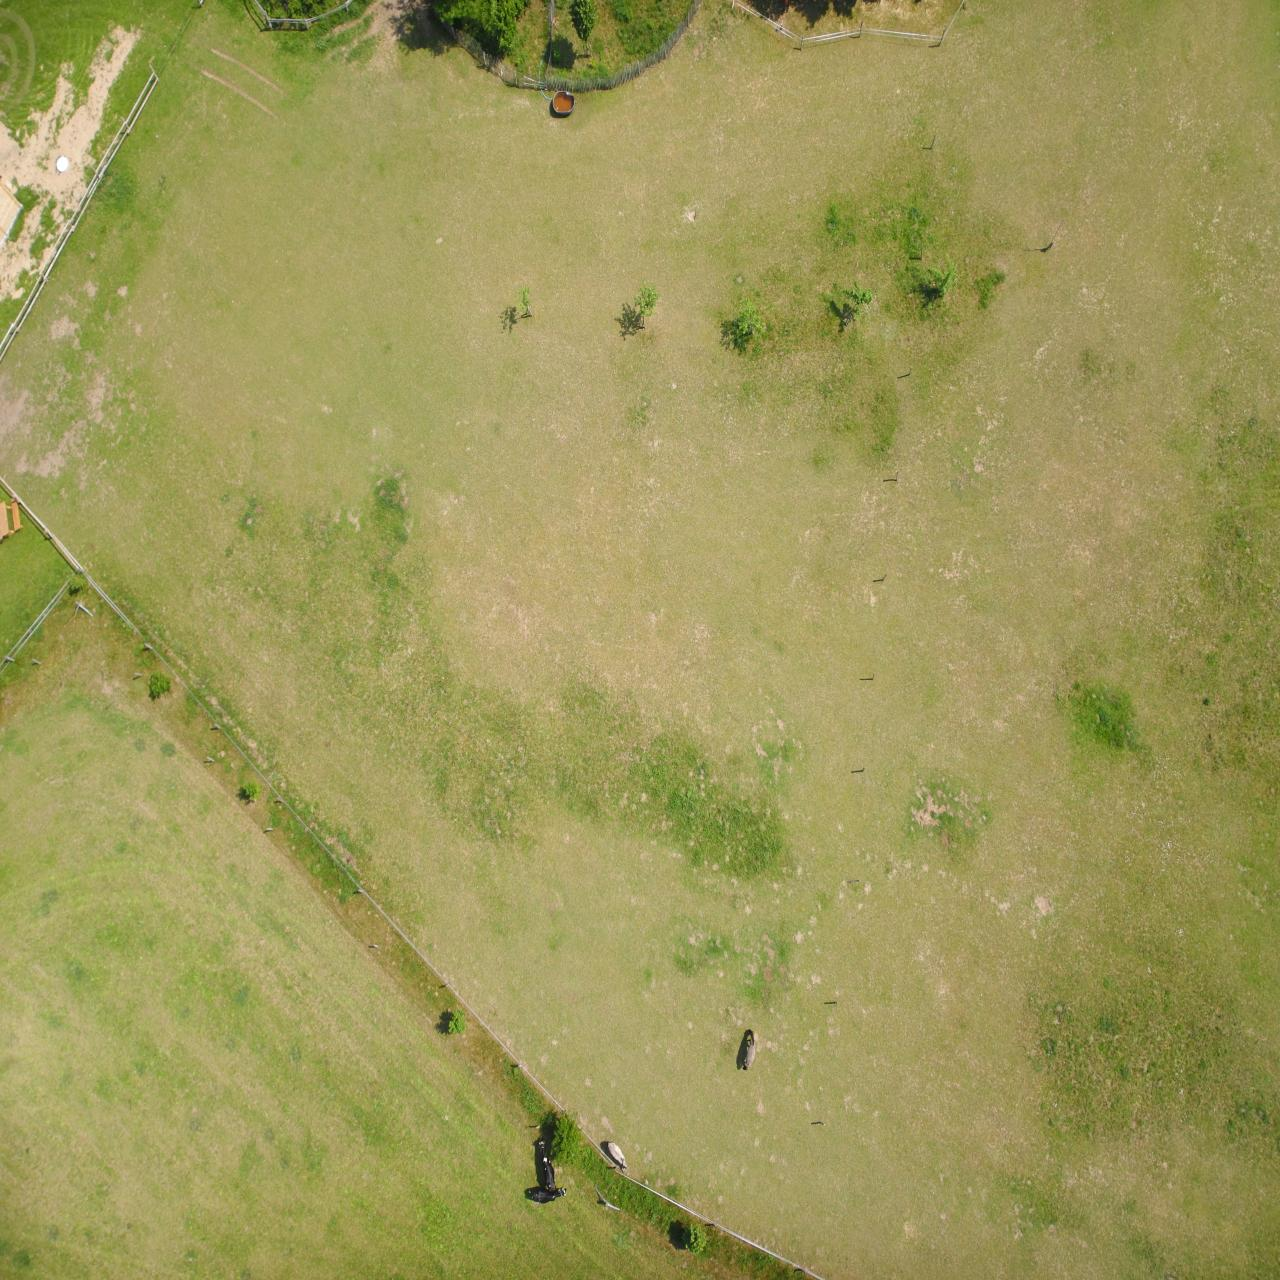cow: (724, 88, 741, 139), (714, 77, 751, 94)
